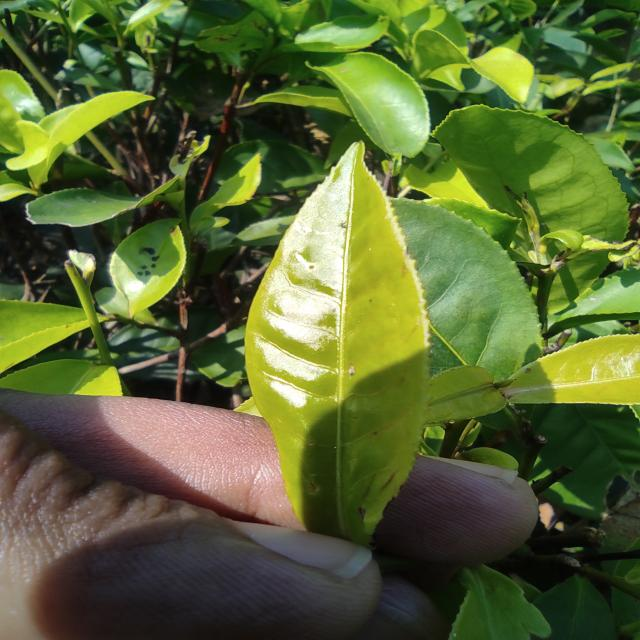Category C 4-7 days: (219, 134, 473, 552)
